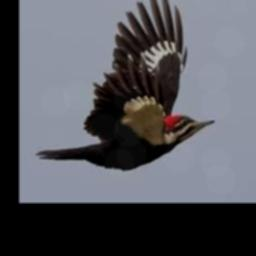Woodpecker: (35, 0, 216, 169)
